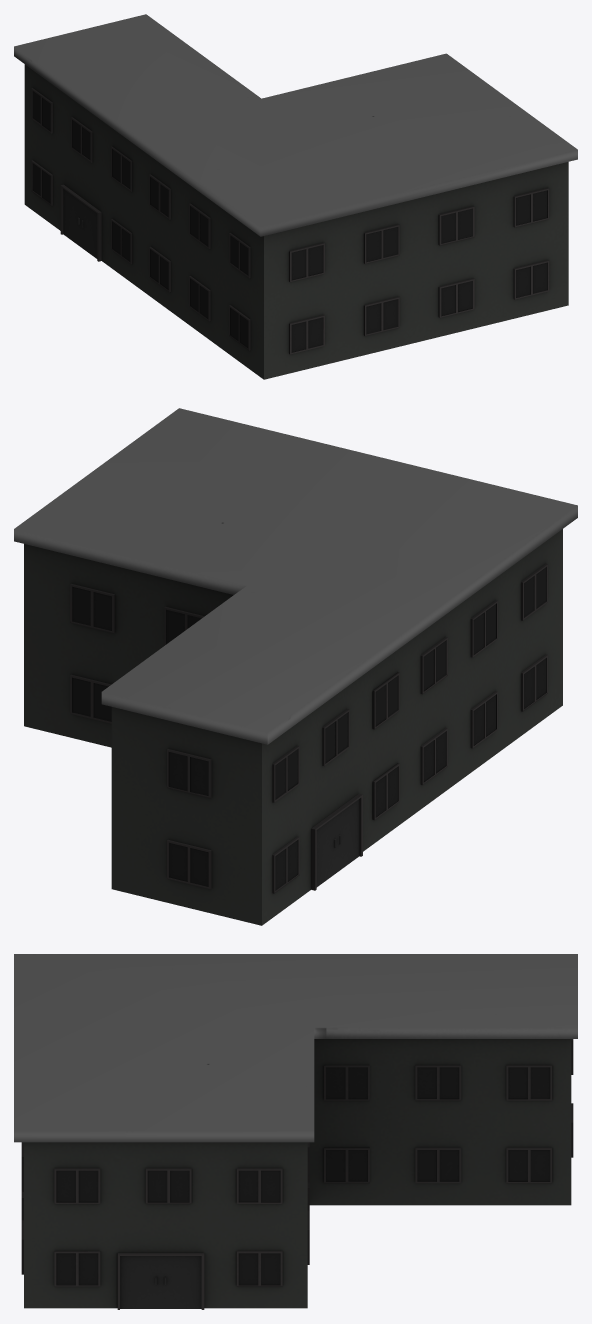
File: HQ_Large.fbx
The picture shows the model from 3 angles, top to bottom: view 1: azimuth 30°, elevation 25°; view 2: azimuth 150°, elevation 25°; view 3: azimuth 270°, elevation 25°; orthographic projection. The views are drawn at different scales.
Parts seen in each view (by area): view 1: HQ_Large; view 2: HQ_Large; view 3: HQ_Large.
Boxes of the visible parts, x1,y1,x2,y2 form: HQ_Large: (14,14,577,379); HQ_Large: (14,408,577,925); HQ_Large: (14,954,577,1309).
Bounding box in the file's own units: 55.11 × 26.2 × 74.23.
